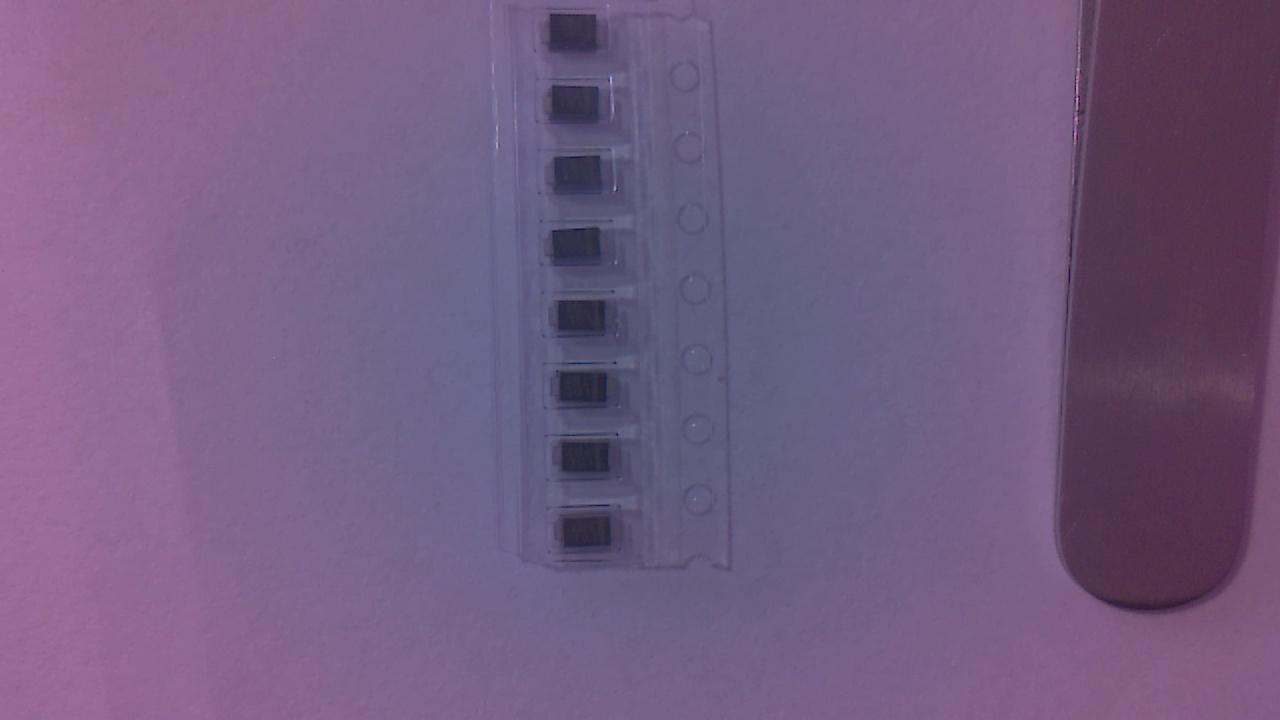Diode: (540, 19, 612, 62), (553, 370, 623, 413), (556, 516, 627, 558), (551, 160, 620, 200), (545, 227, 612, 268), (555, 443, 625, 481), (552, 302, 620, 341), (544, 87, 613, 125)
